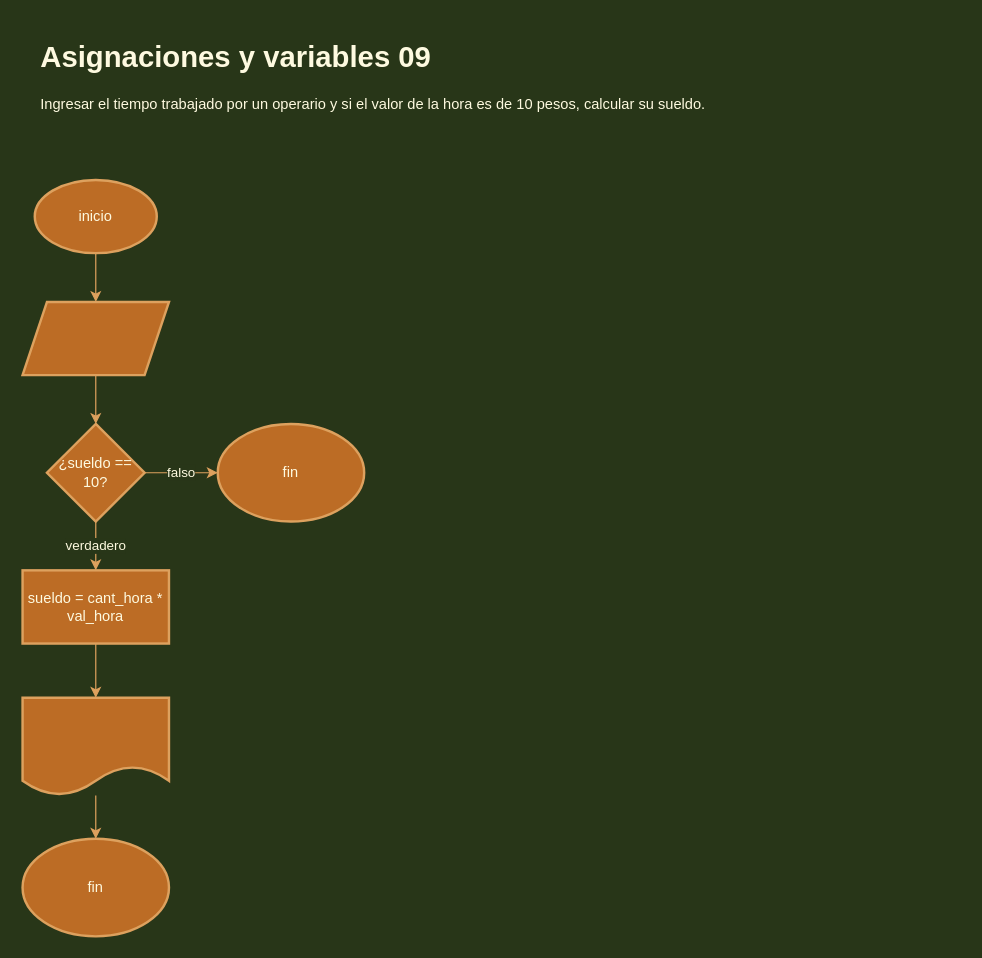
Some shapes in this 982 by 958 pixel diagram are drawn without their labels. Each missing label, with the centre of its shape:
"codigo_oper cant_hora val_hora" belongs at pixel 95 338.
"Sueldo del empleado (codigo_oper): (sueldo)" belongs at pixel 95 746.
